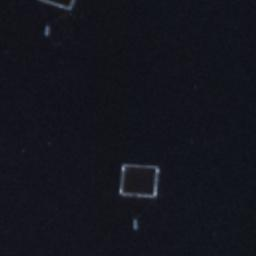square_solid: (116, 160, 162, 202)
